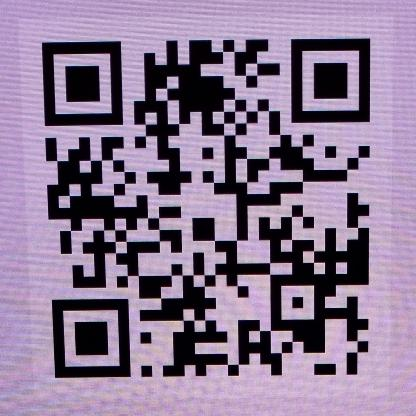qr: (35, 35, 382, 382)
